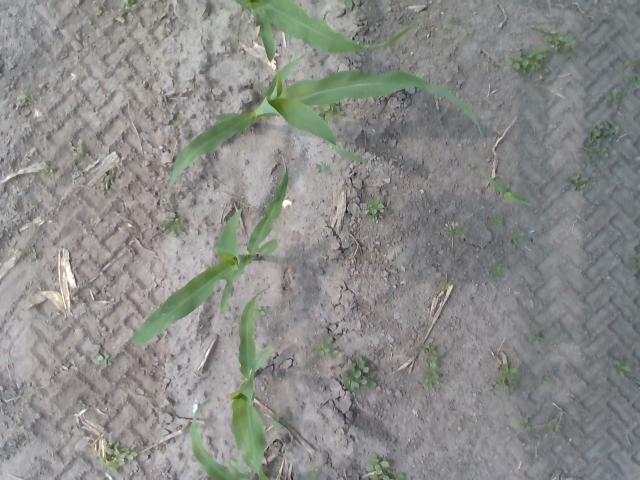Maize: (166, 54, 484, 202), (127, 155, 290, 348), (236, 1, 416, 61), (230, 289, 286, 480), (192, 398, 258, 480)
Weeds: (486, 174, 530, 208), (585, 123, 618, 160), (342, 359, 376, 391), (104, 442, 137, 468), (513, 48, 542, 73), (162, 212, 187, 237), (496, 364, 518, 388), (367, 452, 388, 472), (322, 337, 339, 361), (324, 104, 344, 121), (630, 245, 640, 278), (614, 361, 631, 378), (572, 174, 590, 190), (560, 35, 576, 51), (266, 414, 282, 430), (424, 370, 439, 387), (102, 172, 114, 191), (369, 202, 388, 214), (315, 162, 330, 176), (311, 345, 329, 356), (546, 30, 560, 43), (490, 266, 508, 276), (453, 227, 468, 239), (370, 473, 395, 480), (608, 94, 622, 106), (520, 418, 532, 432), (344, 0, 360, 10), (422, 345, 436, 356), (96, 355, 110, 366), (550, 420, 562, 432), (122, 0, 136, 10), (630, 78, 640, 91), (257, 306, 268, 317), (178, 114, 188, 126), (493, 214, 503, 226), (539, 44, 548, 57), (308, 468, 319, 478), (44, 163, 56, 172), (426, 358, 438, 367), (18, 92, 28, 102), (538, 376, 550, 384), (514, 230, 524, 239), (536, 333, 544, 342), (449, 15, 458, 22), (444, 284, 450, 290), (469, 164, 474, 170)
